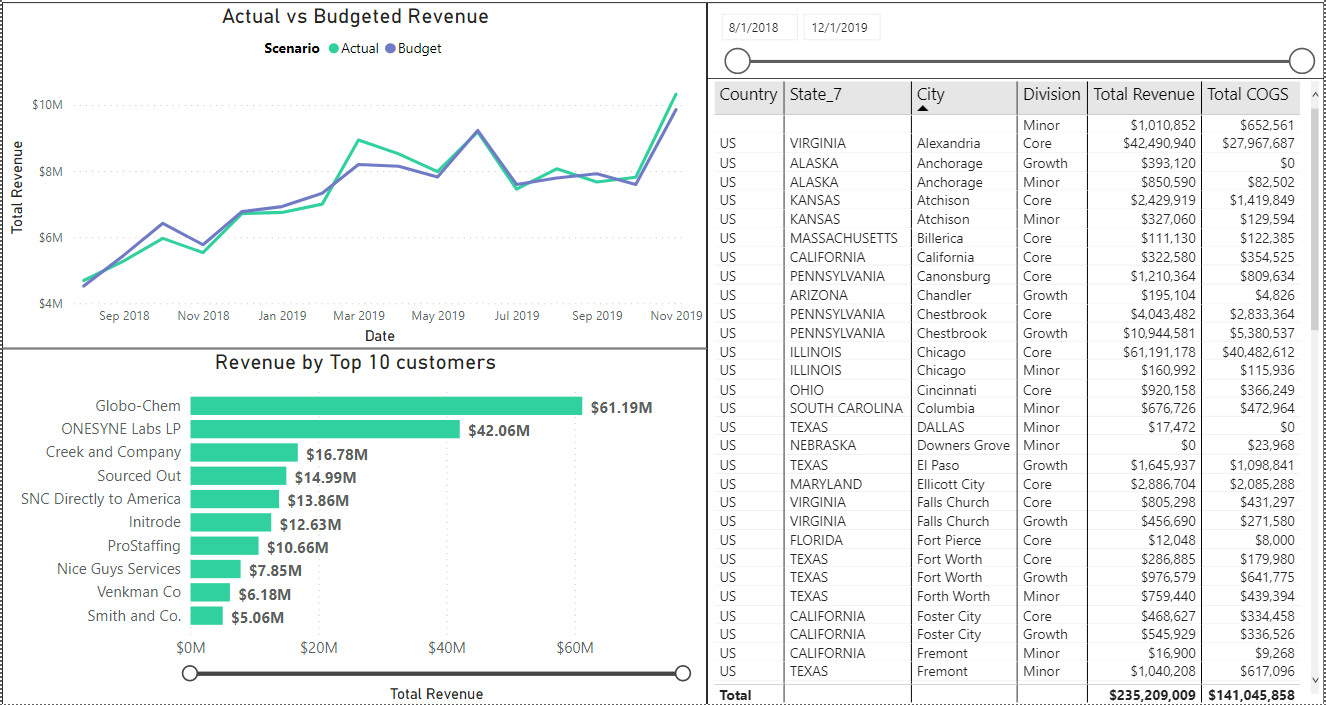

This screenshot's page, from the dashboard's own definition file:
{"tool":"powerbi","page":{"name":"Summary","canvas":[1280,720],"ordinal":1},"visuals":[{"type":"actionButton","box":[0,0,100,40],"z":0},{"type":"clusteredBarChart","title":"Revenue by Top 10 customers","fields":{"Category":["data.Name"],"Y":["Sum(data.Total Revenue)"]},"box":[0,375.4,682.3,345.7],"z":1000},{"type":"lineChart","title":"Actual vs Budgeted Revenue","fields":{"Y":["Sum(data.Total Revenue)"],"Series":["data.Scenario"],"Category":["data.Date"]},"box":[0,39.9,682.3,335.5],"z":2000},{"type":"tableEx","fields":{"Values":["data.Country","data.State_7","data.City","data.Division","Sum(data.Total Revenue)","Sum(data.Total COGS)"]},"box":[682.3,109.5,597.9,611.6],"z":3000},{"type":"slicer","fields":{"Values":["data.Date"]},"box":[682.3,39.9,597.9,74.2],"z":4000}]}

Visuals, with their boxes on the page's 1280x720 design canvas (x1, y1, x2, y2). These are canvas units, not pixel positions in the 1326x705 screenshot, which may show the page scaled, cropped or inside an application window:
actionButton: [0, 0, 100, 40]
"Revenue by Top 10 customers" clusteredBarChart: [0, 375, 682, 721]
"Actual vs Budgeted Revenue" lineChart: [0, 40, 682, 375]
tableEx - data.Country x data.State_7: [682, 110, 1280, 721]
slicer - data.Date: [682, 40, 1280, 114]
